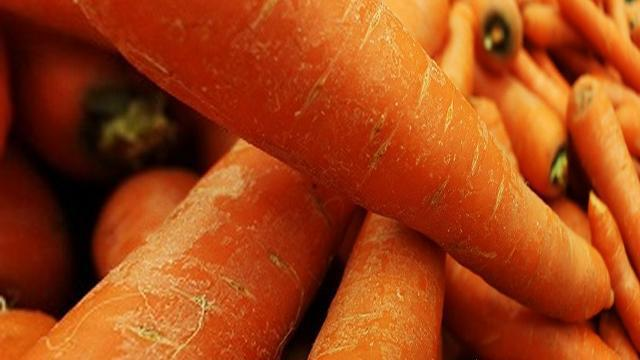carrot: (51, 2, 640, 360), (75, 0, 638, 315), (24, 136, 447, 360), (489, 54, 640, 355)
